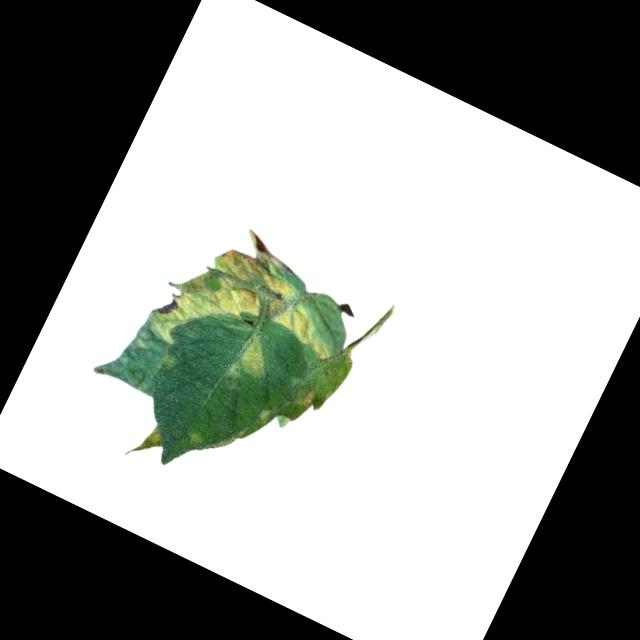Leaf_Mold: (142, 204, 291, 375), (244, 268, 353, 361), (223, 329, 280, 393), (117, 416, 170, 472), (293, 382, 323, 415)
